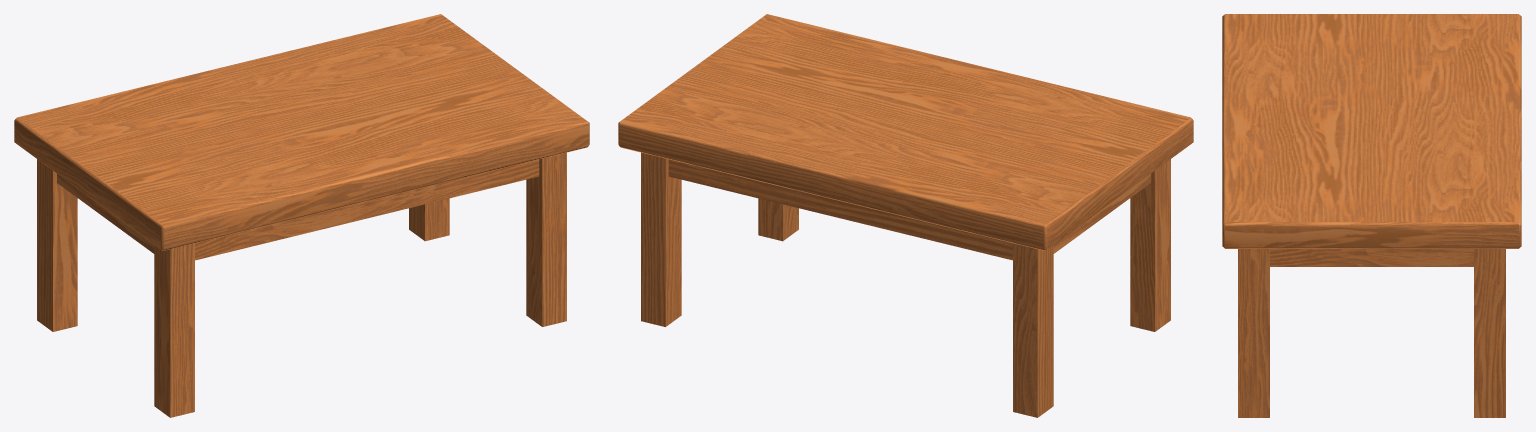
The model's file is kitchen_table_003.fbx.
The picture shows the model from 3 angles, left to right: view 1: azimuth 30°, elevation 25°; view 2: azimuth 150°, elevation 25°; view 3: azimuth 270°, elevation 25°; orthographic projection.
Parts seen in each view (by area): view 1: kitchen_table_003; view 2: kitchen_table_003; view 3: kitchen_table_003.
Part boxes in pixels (x1=…): kitchen_table_003: x1=14, y1=14, x2=589, y2=417; kitchen_table_003: x1=618, y1=14, x2=1193, y2=417; kitchen_table_003: x1=1222, y1=14, x2=1521, y2=417.
Bounding box in the file's own units: 204 × 123 × 91.72.
